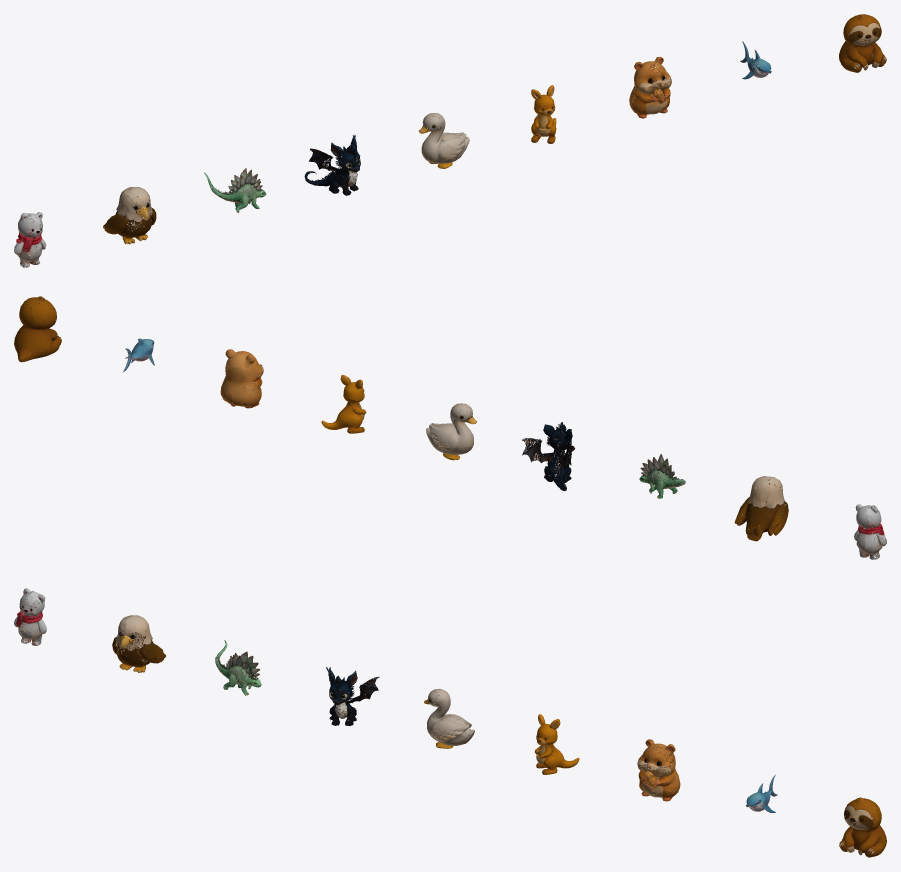
The model's file is library.glb.
3 renders of one model, top to bottom at view 1: azimuth 30°, elevation 25°; view 2: azimuth 150°, elevation 25°; view 3: azimuth 330°, elevation 25°, orthographic.
Parts seen in each view (by area): view 1: Plush_Sloth, Plush_Mouse, Plush_Bird, Plush_Dragon, Plush_Duck, Plush_Bear2, Plush_Dino, Plush_Kangaroo, Plush_Shark; view 2: Plush_Bird, Plush_Sloth, Plush_Mouse, Plush_Dragon, Plush_Duck, Plush_Bear2, Plush_Kangaroo, Plush_Dino, Plush_Shark; view 3: Plush_Sloth, Plush_Mouse, Plush_Bird, Plush_Duck, Plush_Dragon, Plush_Bear2, Plush_Kangaroo, Plush_Dino, Plush_Shark.
Part boxes in pixels (x1,y1,x2,y2): Plush_Sloth: (839,14,886,72); Plush_Mouse: (629,56,671,118); Plush_Bird: (103,187,156,244); Plush_Dragon: (304,135,360,195); Plush_Duck: (419,113,469,168); Plush_Bear2: (14,212,46,267); Plush_Dino: (204,168,266,213); Plush_Kangaroo: (531,85,556,143); Plush_Shark: (740,41,771,79); Plush_Bird: (734,476,788,541); Plush_Sloth: (14,296,61,362); Plush_Mouse: (220,349,263,408); Plush_Dragon: (522,422,574,490); Plush_Duck: (426,403,476,460); Plush_Bear2: (854,504,886,559); Plush_Kangaroo: (321,375,366,433); Plush_Dino: (639,454,685,498); Plush_Shark: (123,338,154,371); Plush_Sloth: (839,797,886,857); Plush_Mouse: (637,739,680,801); Plush_Bird: (112,615,165,672); Plush_Duck: (424,688,474,748); Plush_Dragon: (326,667,379,725); Plush_Bear2: (14,588,46,645); Plush_Kangaroo: (535,714,579,774); Plush_Dino: (215,640,261,695); Plush_Shark: (746,774,777,812).
Bounding box in the file's own units: 2.08 × 0.12 × 0.12.
9 materials, 9 textured.
